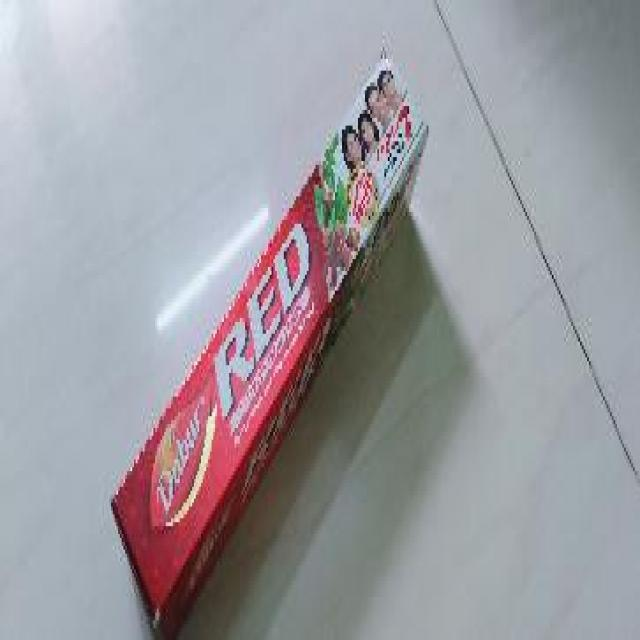tooth paste: (95, 49, 428, 637)
